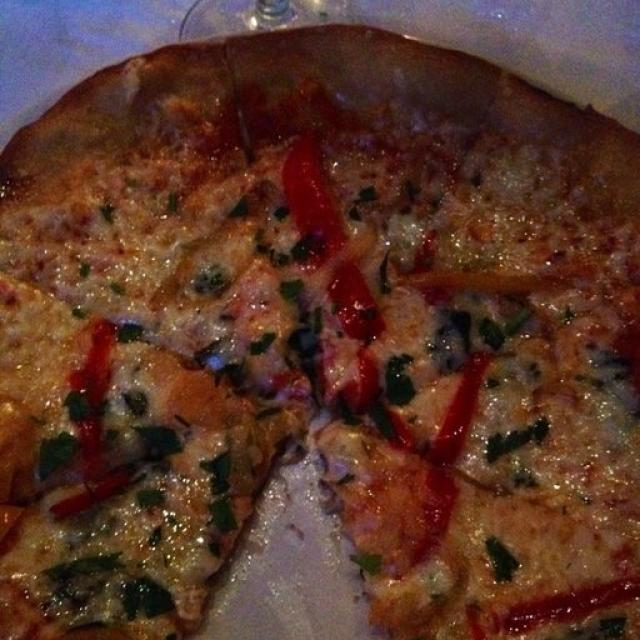Ham: (0, 28, 640, 640)
Red Pepper: (282, 134, 388, 335), (434, 341, 489, 578), (84, 427, 130, 500), (80, 322, 104, 411), (353, 348, 374, 411), (56, 488, 90, 518)
